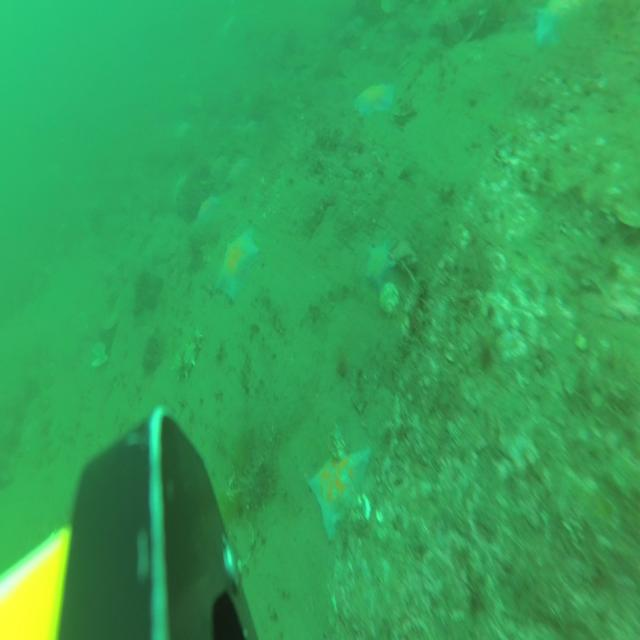holothurian: (172, 329, 202, 384)
scallop: (379, 281, 401, 312), (92, 342, 108, 369), (104, 313, 119, 333), (106, 285, 119, 306)
starfish: (309, 428, 371, 540), (217, 222, 258, 305), (534, 0, 583, 50), (354, 82, 394, 119), (367, 243, 395, 294), (196, 196, 220, 232), (228, 155, 248, 190), (210, 155, 227, 183)
